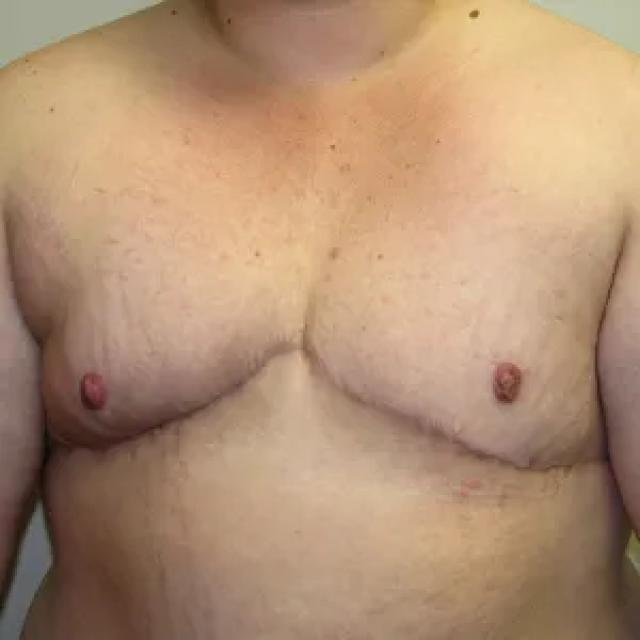Seno herido: (293, 228, 621, 506), (26, 229, 289, 481)
